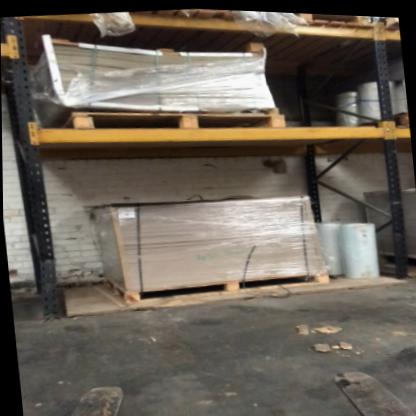vertical_damage: (28, 247, 61, 274)
